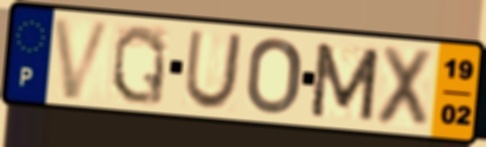M: (307, 39, 383, 124)
O: (244, 35, 305, 117)
Q: (109, 22, 169, 108)
U: (181, 28, 246, 113)
V: (49, 15, 116, 102)
X: (372, 42, 437, 132)
